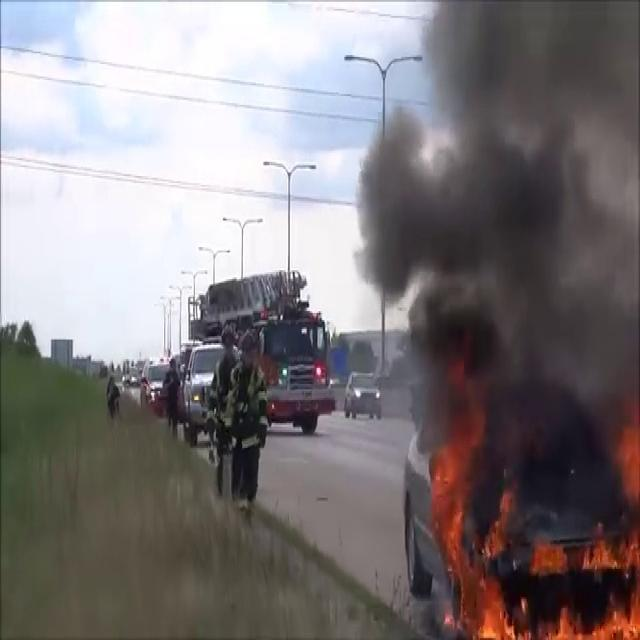Fire: (428, 426, 640, 640)
Smoke: (352, 0, 640, 494)
